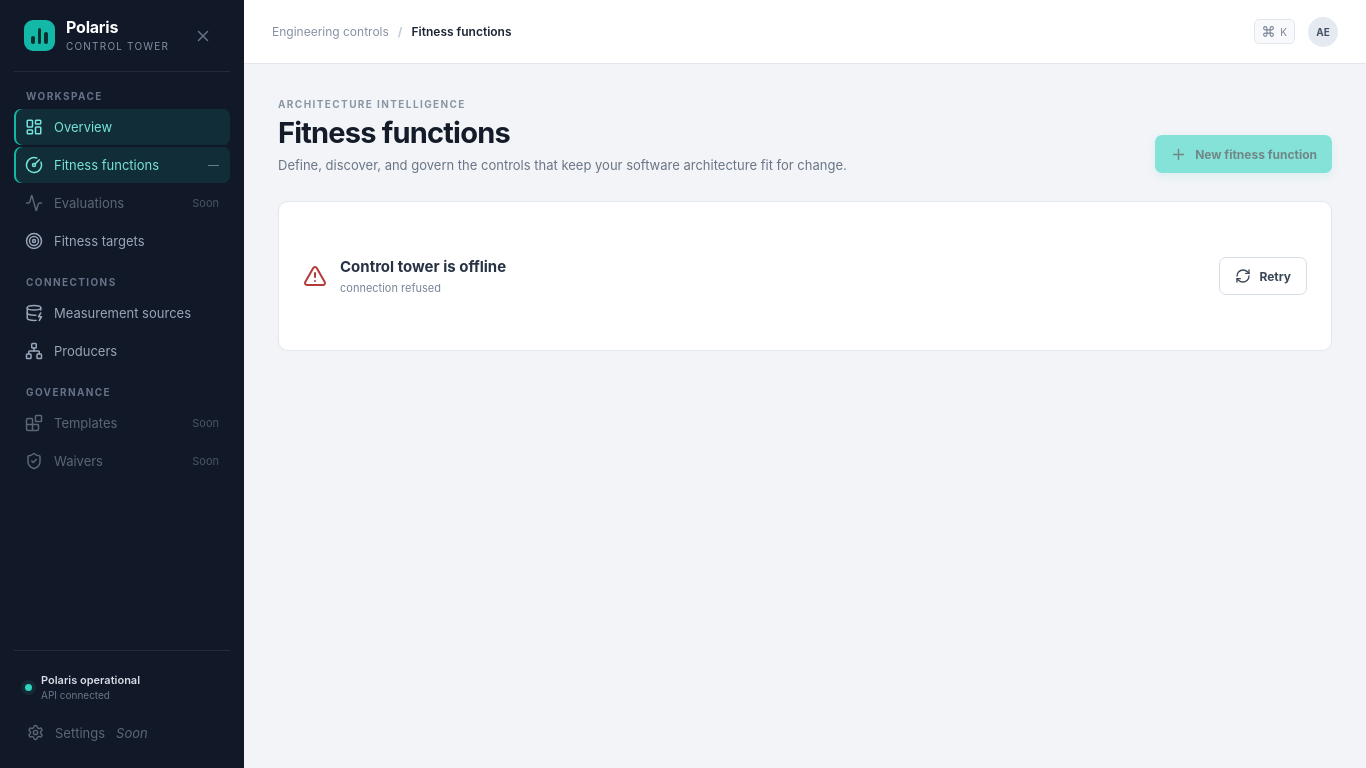
Test case: Polaris control tower › shows an offline state and recovers through retry
This screenshot has width=1366, height=768.
Expected: the heading "Control tower is offline" is shown, [340,257,506,276]
Expected: the text "connection refused" is shown, [340,281,441,295]
Click the button "Retry": click(1263, 276) [1219,257,1307,295]
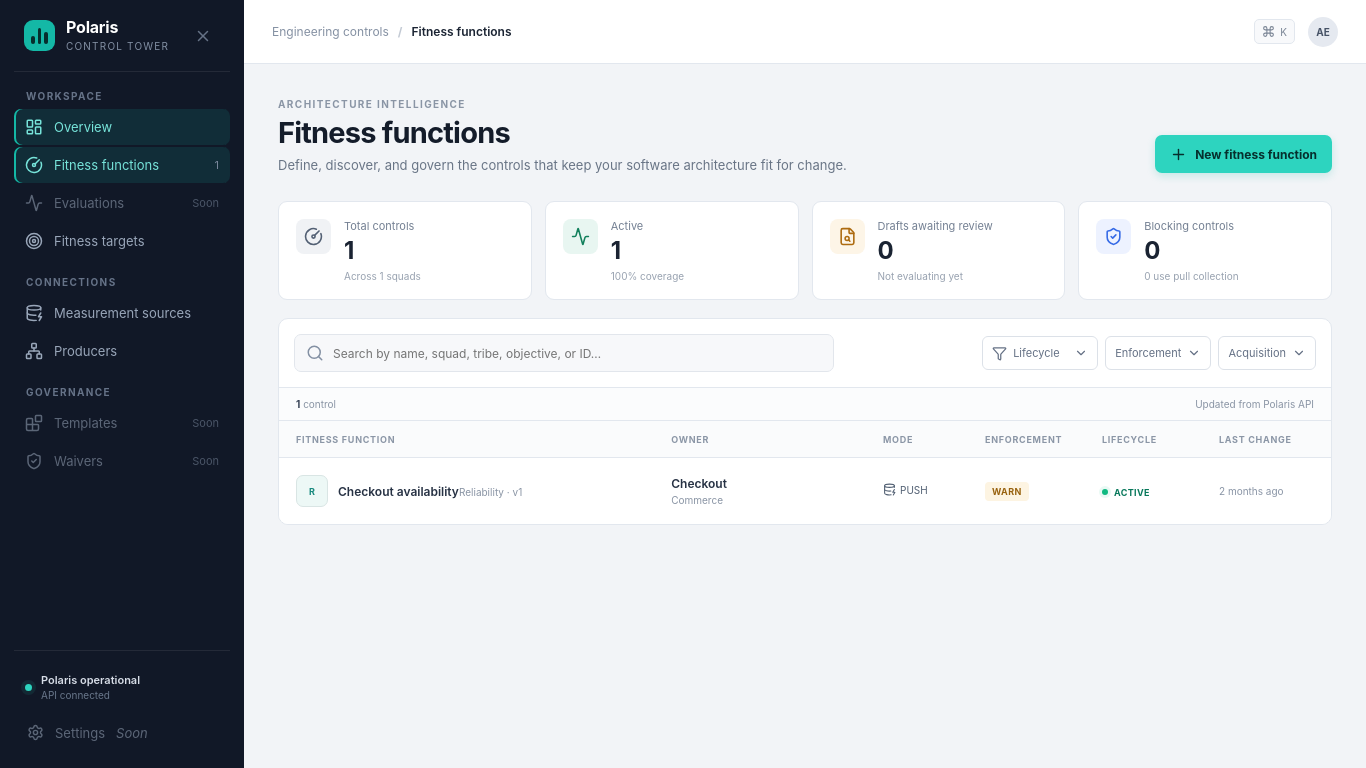
Expected: the text "Checkout availability" is shown, [338,484,459,498]
